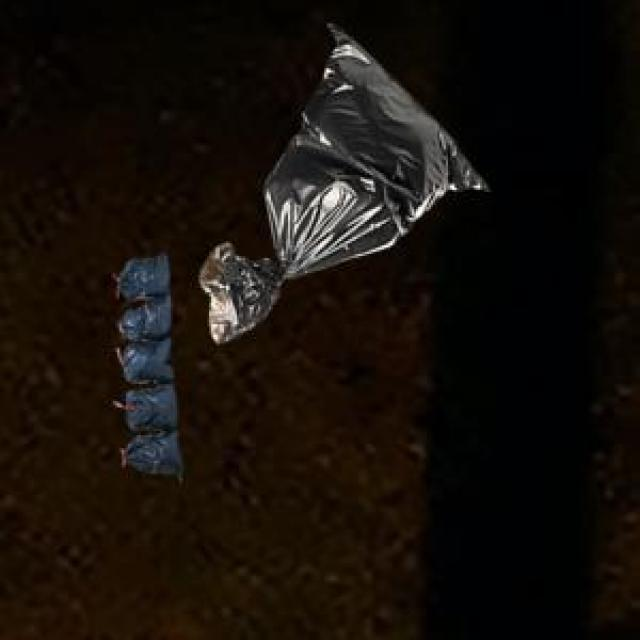waste: (200, 25, 489, 343), (119, 254, 179, 476)
